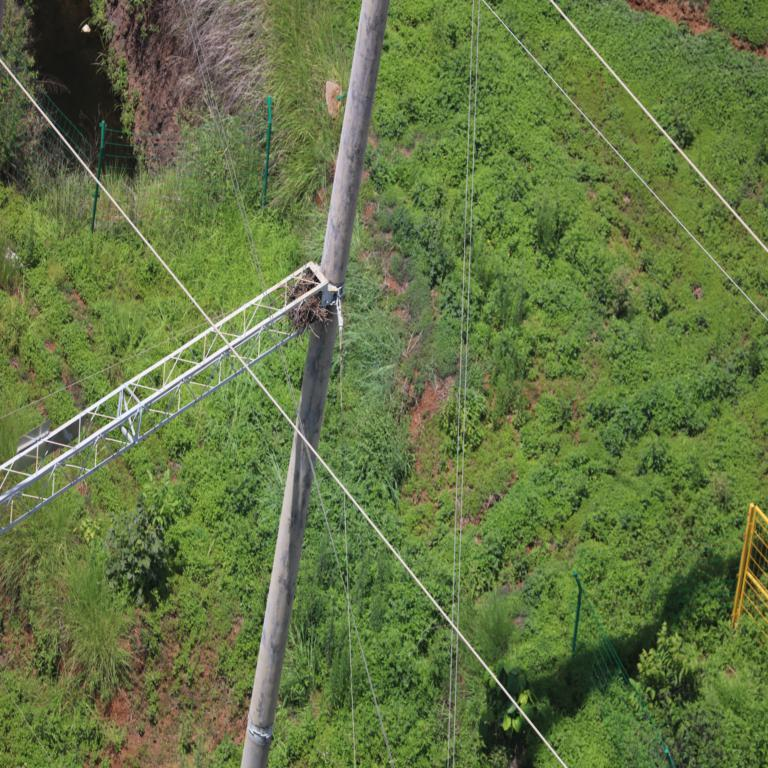nest: (286, 277, 332, 328)
